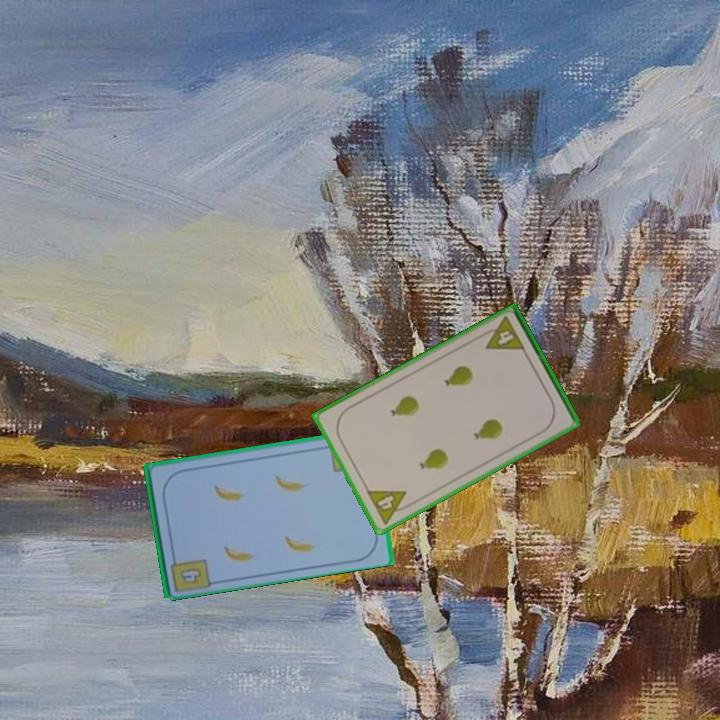4b: (176, 564, 205, 587)
4p: (363, 486, 415, 528), (477, 313, 528, 354)
